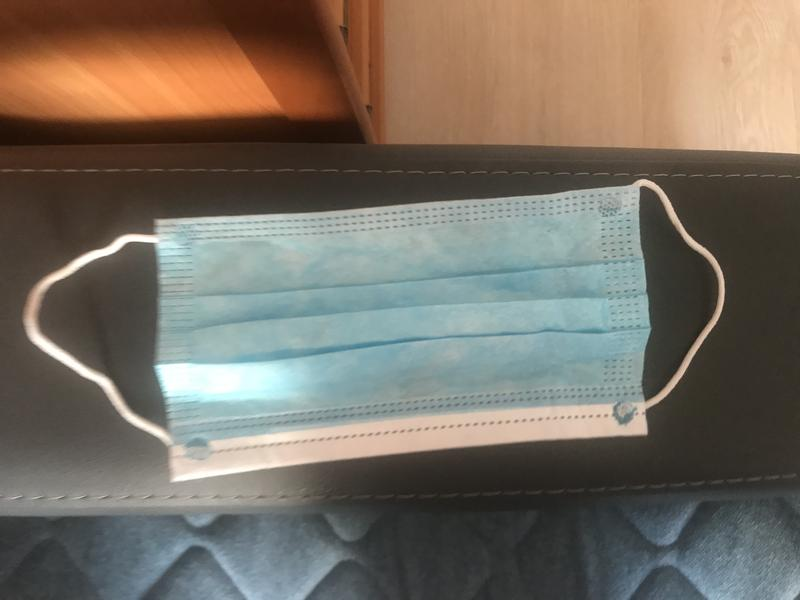medical_mask: (23, 179, 726, 482)
